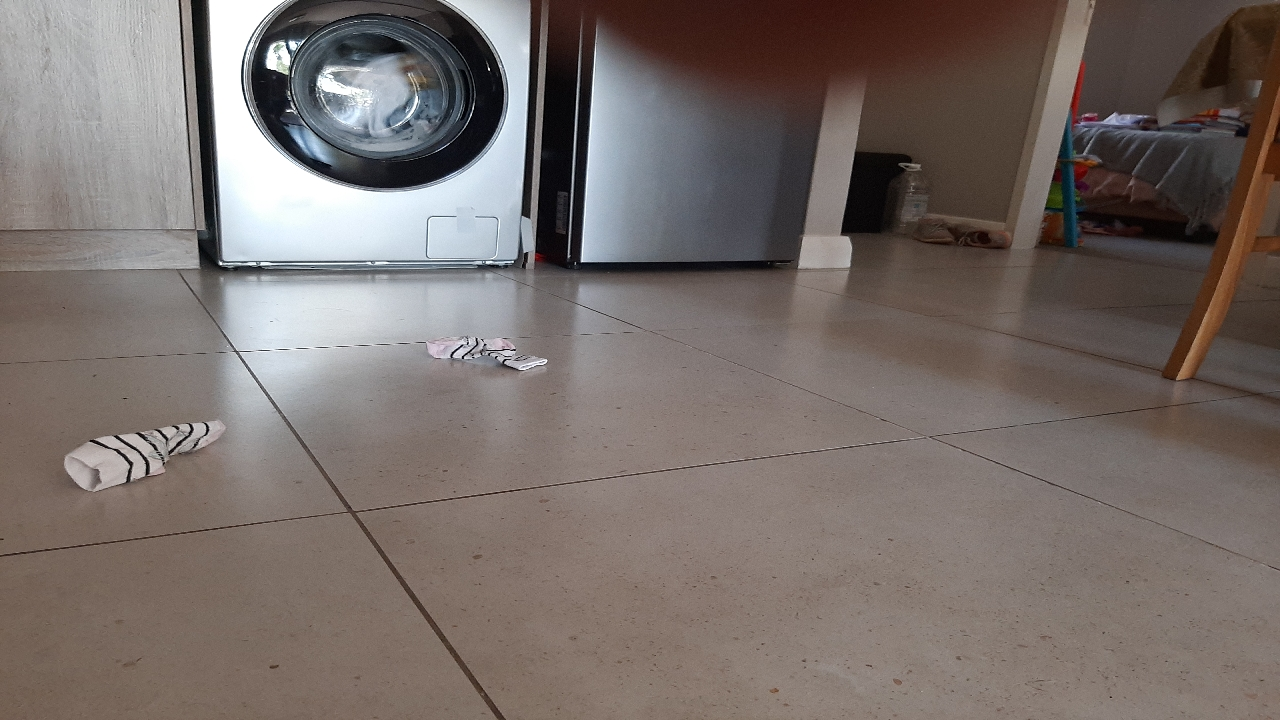socks: (18, 364, 251, 528), (402, 319, 562, 406)
